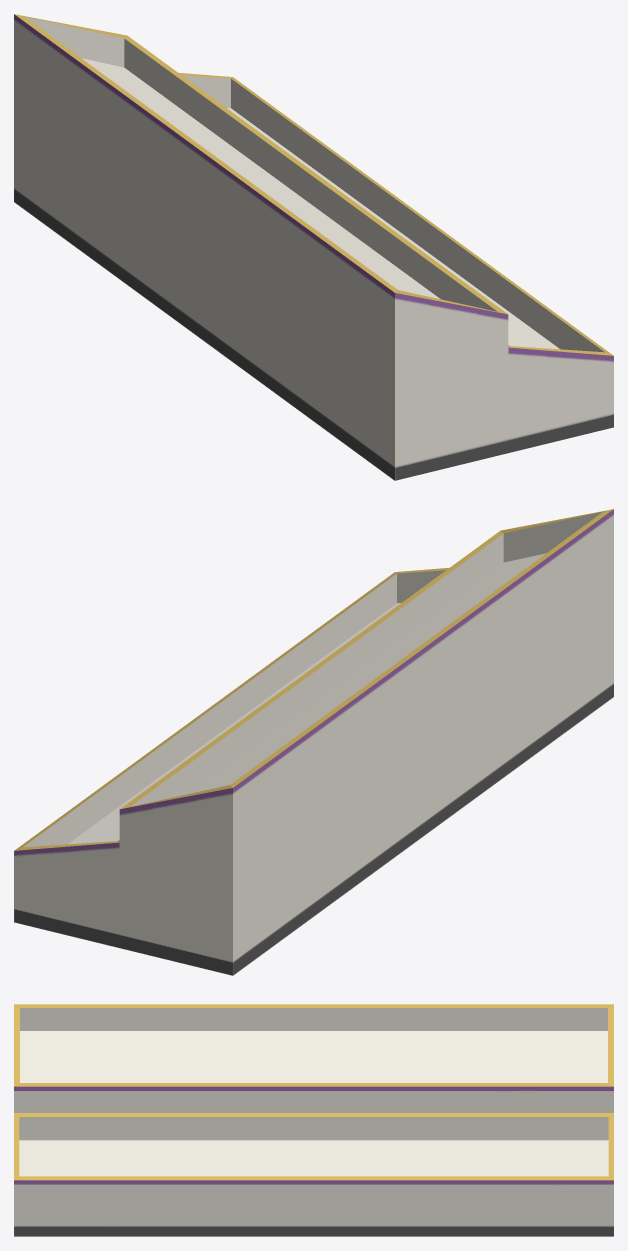
Rendered from Shelf5.fbx.
3 renders of one model, top to bottom at view 1: azimuth 30°, elevation 25°; view 2: azimuth 150°, elevation 25°; view 3: azimuth 270°, elevation 25°, orthographic. The views are drawn at different scales.
Parts seen in each view (by area): view 1: pCube13; view 2: pCube13; view 3: pCube13.
Boxes of the visible parts, left/top/right/bottom form: pCube13: left=14, top=14, right=613, bottom=480; pCube13: left=14, top=509, right=613, bottom=975; pCube13: left=14, top=1004, right=613, bottom=1236.
Bounding box in the file's own units: 68.93 × 56.52 × 208.
Materials: 1 (1 with a texture image).
